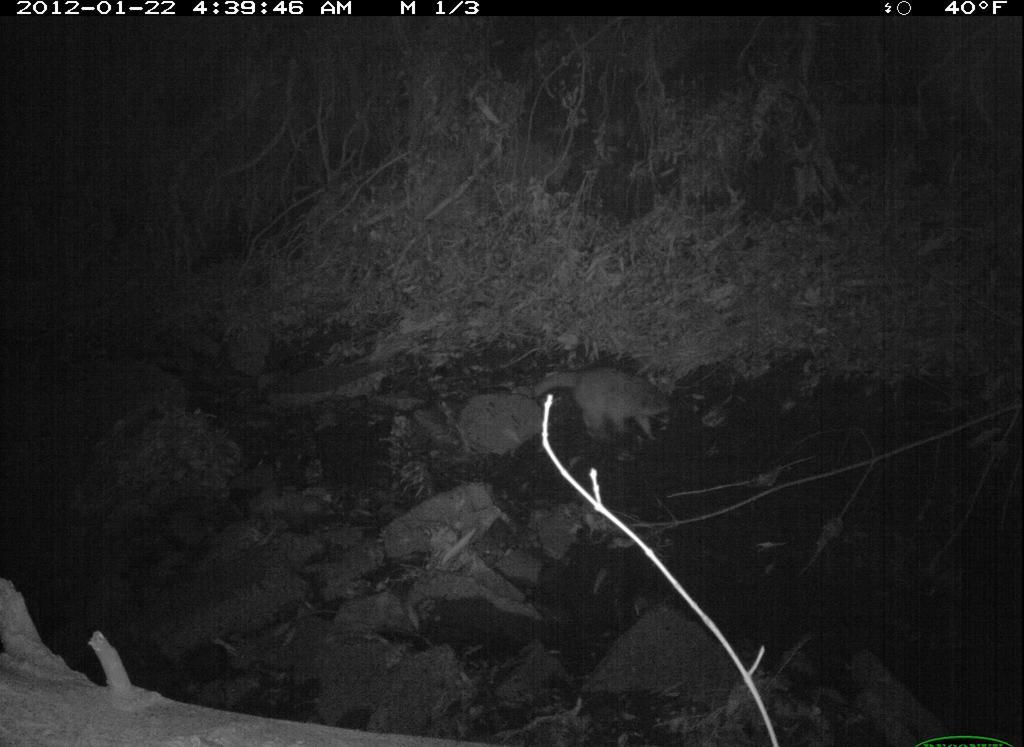raccoon: (520, 353, 698, 459)
